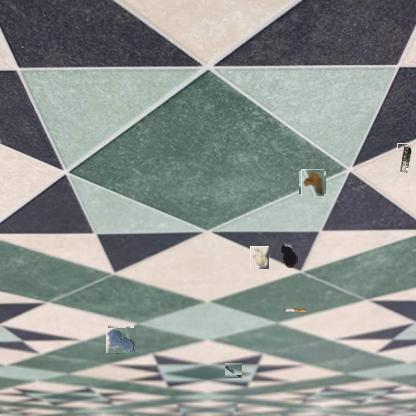dirty: (300, 170, 325, 195), (397, 143, 413, 173), (249, 247, 270, 268), (224, 362, 242, 378), (283, 306, 307, 312)
liquid: (107, 326, 135, 354), (282, 242, 298, 268)
